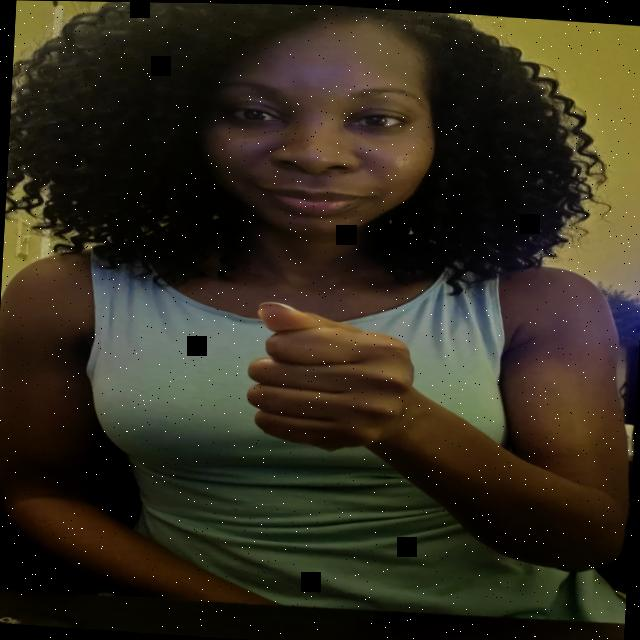Rock: (238, 277, 427, 467)
